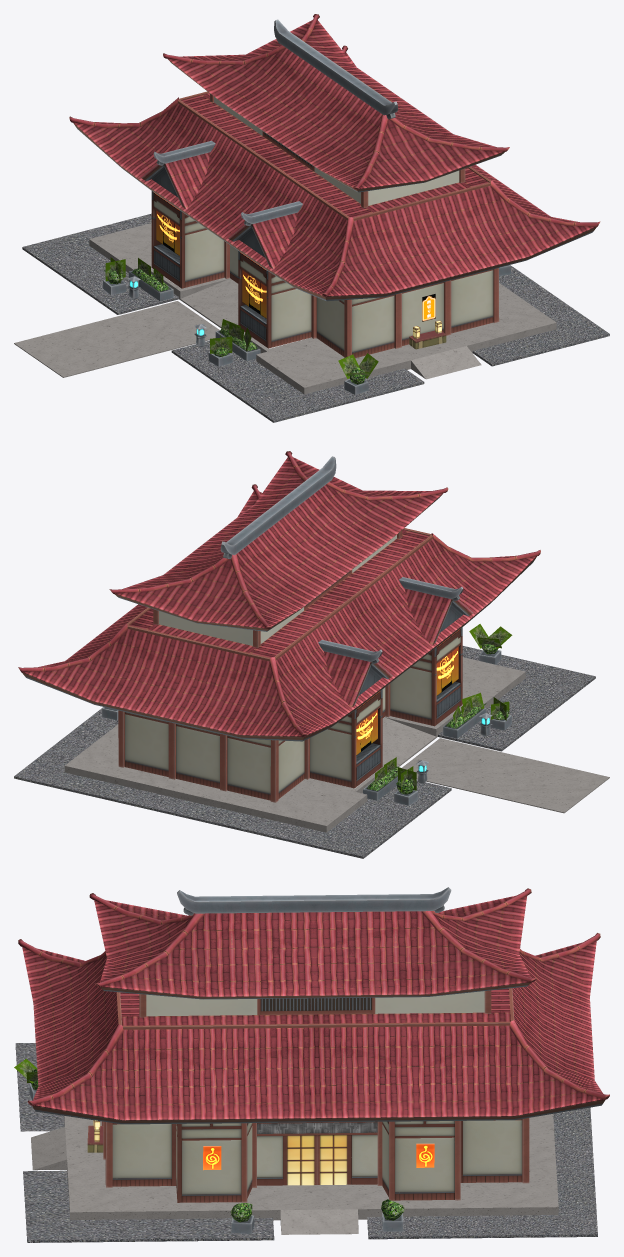
The model's file is japon1.fbx.
The picture shows the model from 3 angles, top to bottom: view 1: azimuth 30°, elevation 25°; view 2: azimuth 150°, elevation 25°; view 3: azimuth 270°, elevation 25°; orthographic projection. The views are drawn at different scales.
Parts seen in each view (by area): view 1: House1; view 2: House1; view 3: House1.
Boxes of the visible parts, box(x1,y1,x2,y2) form: House1: box(14, 14, 609, 422); House1: box(14, 451, 609, 858); House1: box(14, 887, 609, 1242).
Size of the model in its own units: 2727 by 1282 by 2608.
Materials: 3 (3 with a texture image).
